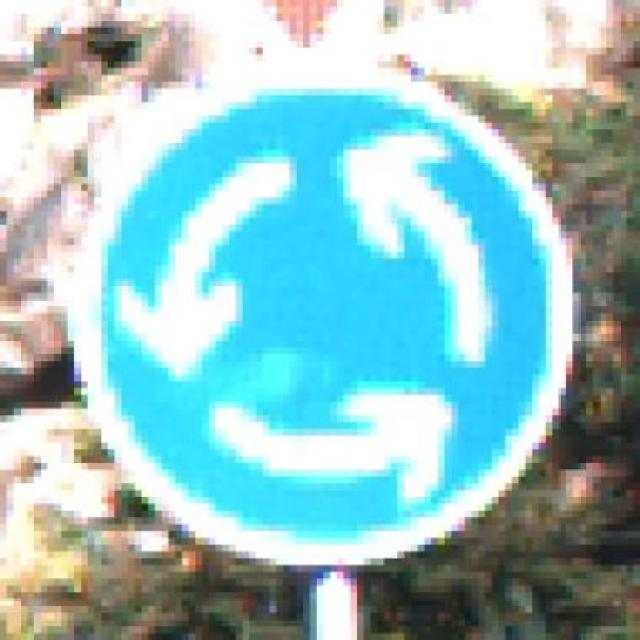Round-About: (40, 34, 606, 578)
